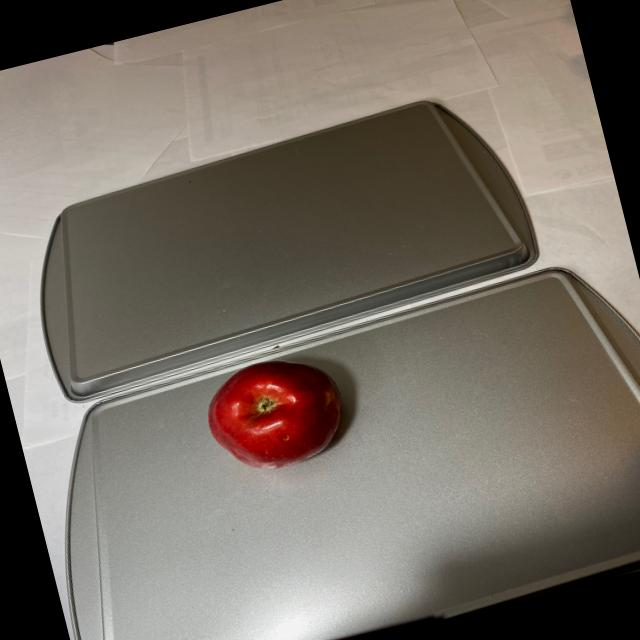apple: (198, 346, 354, 482)
